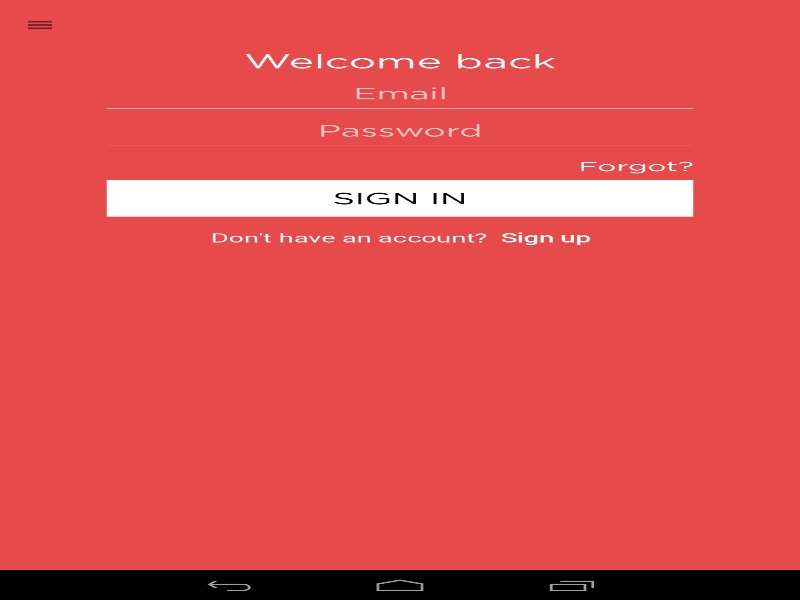Input: (106, 84, 693, 102), (106, 121, 693, 139)
